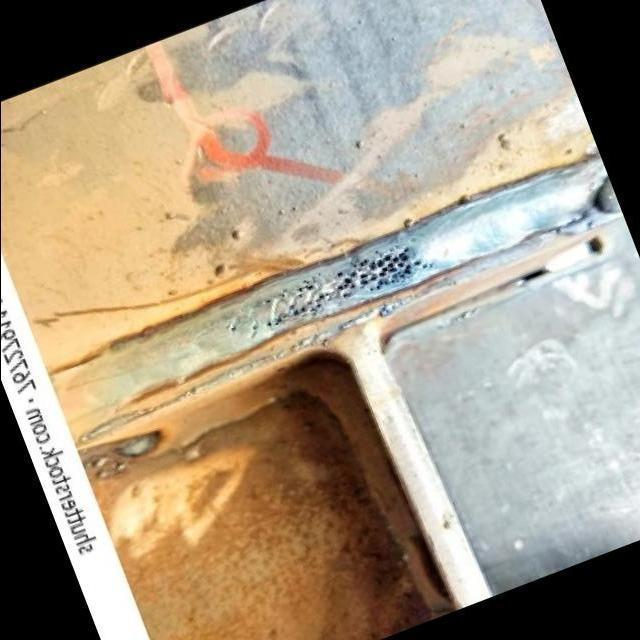defect: (221, 272, 331, 339), (331, 239, 435, 304)
